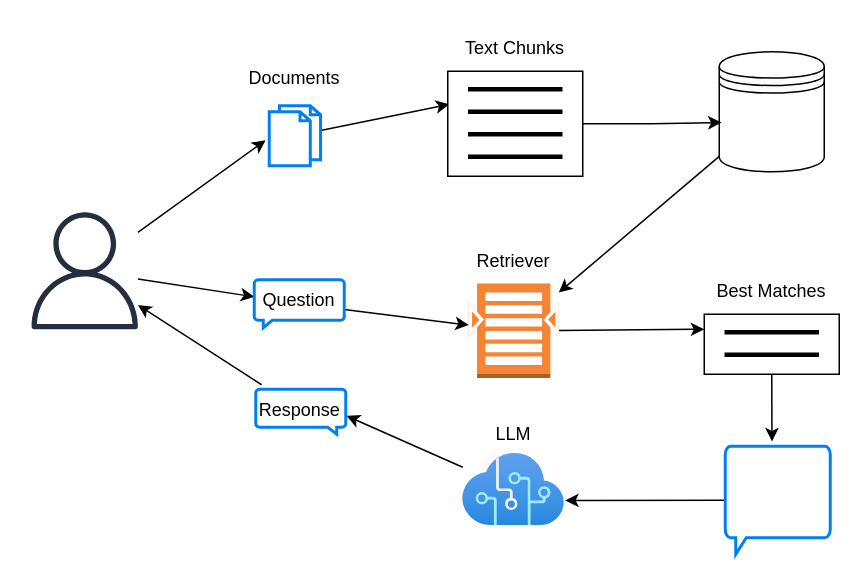
The diagram is 866 pixels wide and 581 high, and some of its shapes have lost their labels. Each missing label, with the box of its shape:
Question with Context: (723, 444, 831, 555)
Vectorstore: (718, 50, 824, 172)
